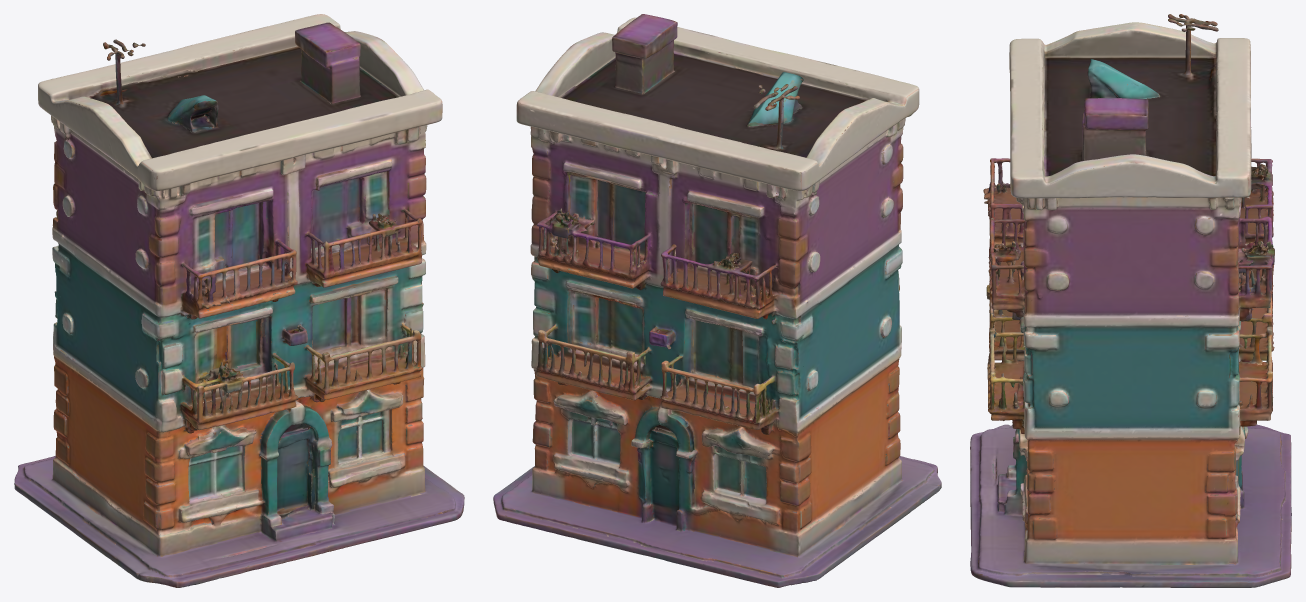
The model's file is Meshy_AI_b1_0331130001_texture.glb.
3 views of the same model, side by side, from view 1: azimuth 30°, elevation 25°; view 2: azimuth 150°, elevation 25°; view 3: azimuth 270°, elevation 25° (orthographic).
Size of the model in its own units: 1.52 by 2 by 1.3.
1 material, 1 textured.
